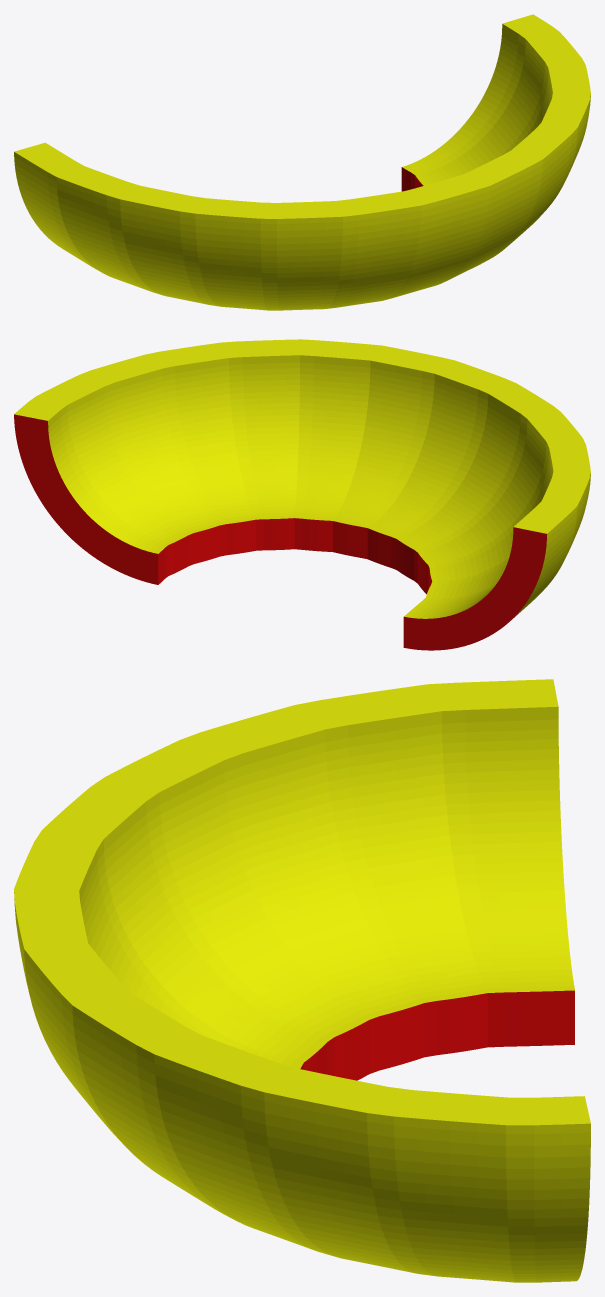
The model's file is SM_WaterShape_SkateRamp_003.fbx.
3 renders of one model, top to bottom at view 1: azimuth 30°, elevation 25°; view 2: azimuth 150°, elevation 25°; view 3: azimuth 270°, elevation 25°, orthographic. The views are drawn at different scales.
Parts seen in each view (by area): view 1: Cube.012; view 2: Cube.012; view 3: Cube.012.
Part boxes in pixels (x1,y1,x2,y2): Cube.012: [14, 14, 590, 310]; Cube.012: [14, 339, 590, 650]; Cube.012: [14, 679, 590, 1282].
Size of the model in its own units: 1195 by 311 by 653.
